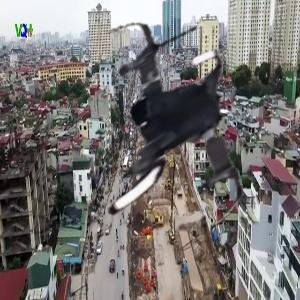drone: (36, 13, 275, 252)
